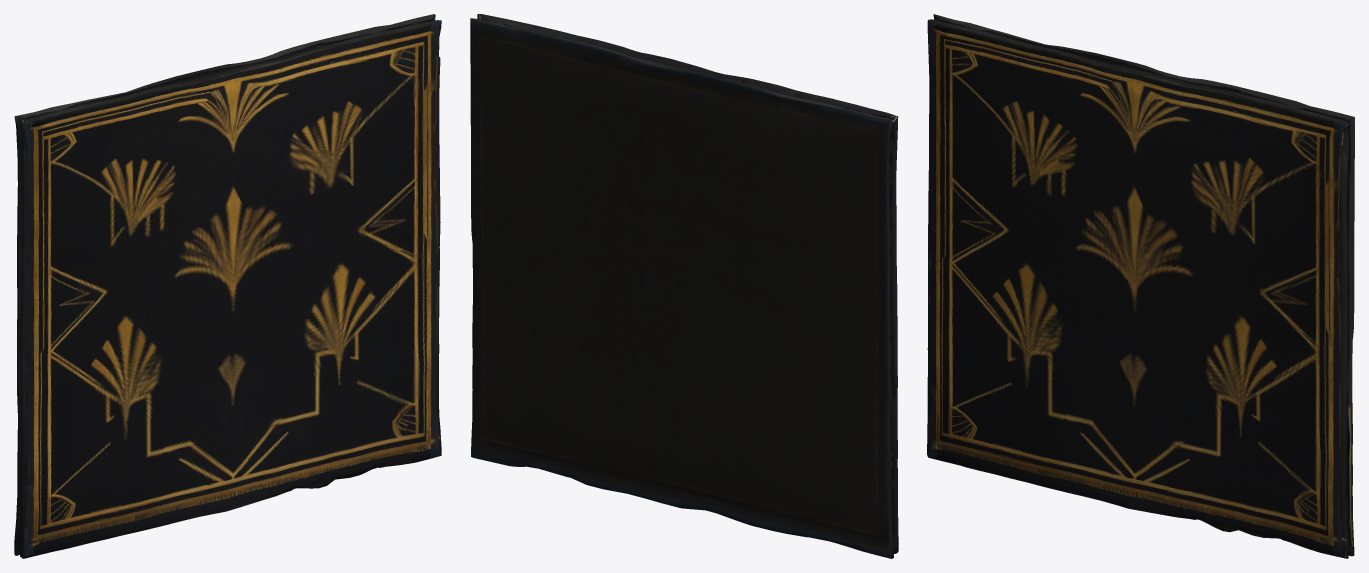
The model's file is Meshy_AI_A_luxurious_black_are_0224030504_texture.glb.
3 views of the same model, side by side, from view 1: azimuth 30°, elevation 25°; view 2: azimuth 150°, elevation 25°; view 3: azimuth 330°, elevation 25° (orthographic).
Bounding box in the file's own units: 2 × 2 × 0.0865.
1 material, 1 textured.
